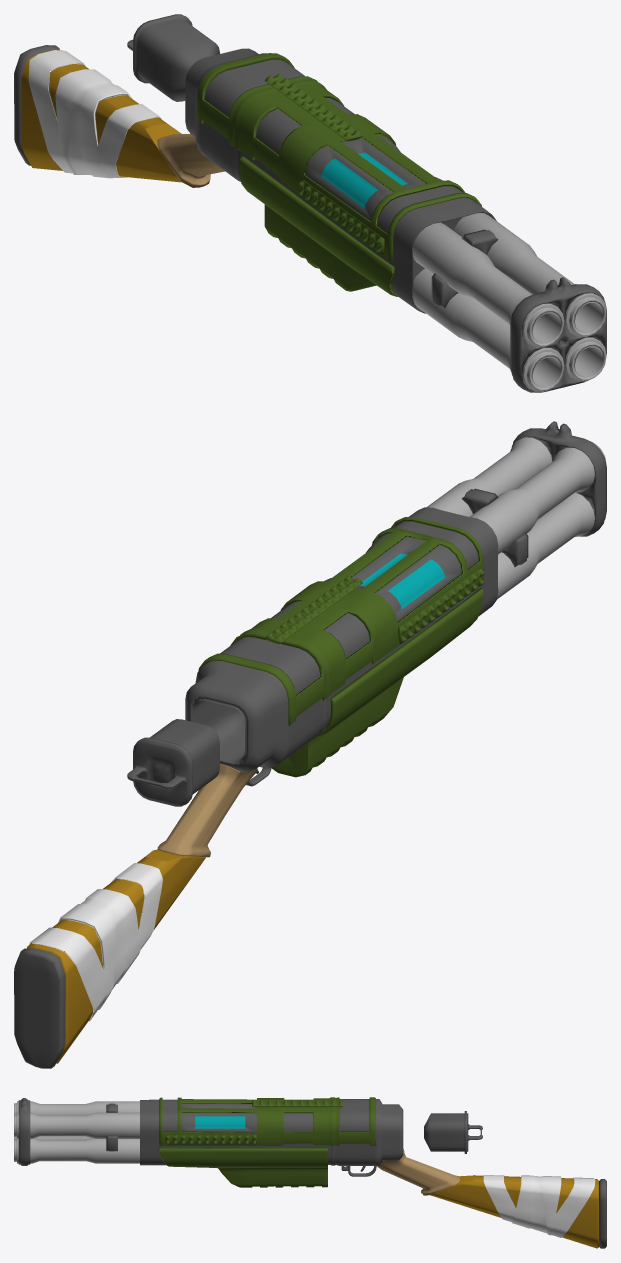
3 views of the same model, one above another, from view 1: azimuth 30°, elevation 25°; view 2: azimuth 150°, elevation 25°; view 3: azimuth 270°, elevation 25° (orthographic). The views are drawn at different scales.
Parts seen in each view (by area): view 1: stvol_low, base_low, nakladka_low, obvazka_low, rukojat_low, pliklad_low, batareya_low, nastvol_low, ruchka_low, pikotini3_low, pikotini1_low, uplotnitel_low (+1 smaller); view 2: base_low, nakladka_low, stvol_low, rukojat_low, obvazka_low, batareya_low, konec_priklada_low, pliklad_low, ruchka_low, nastvol_low, pikotini3_low, pikotini1_low (+1 smaller); view 3: base_low, stvol_low, rukojat_low, nakladka_low, obvazka_low, pliklad_low, batareya_low, ruchka_low, pikotini2_low, nastvol_low, pikotini1_low, konec_priklada_low (+1 smaller).
Boxes of the visible parts, left/top/right/bottom form: stvol_low: left=413, top=213, right=606, bottom=391; base_low: left=185, top=48, right=496, bottom=313; nakladka_low: left=197, top=53, right=481, bottom=262; obvazka_low: left=28, top=50, right=161, bottom=178; rukojat_low: left=239, top=156, right=397, bottom=296; pliklad_low: left=21, top=50, right=182, bottom=182; batareya_low: left=127, top=14, right=219, bottom=101; nastvol_low: left=510, top=277, right=606, bottom=392; ruchka_low: left=157, top=133, right=224, bottom=187; pikotini3_low: left=298, top=178, right=384, bottom=255; pikotini1_low: left=265, top=73, right=362, bottom=141; uplotnitel_low: left=431, top=229, right=498, bottom=307; base_low: left=185, top=507, right=498, bottom=772; nakladka_low: left=198, top=517, right=483, bottom=725; stvol_low: left=427, top=437, right=606, bottom=599; rukojat_low: left=271, top=587, right=483, bottom=777; obvazka_low: left=29, top=863, right=162, bottom=1021; batareya_low: left=127, top=719, right=219, bottom=806; konec_priklada_low: left=14, top=948, right=65, bottom=1068; pliklad_low: left=26, top=849, right=205, bottom=1063; ruchka_low: left=157, top=763, right=257, bottom=857; nastvol_low: left=512, top=421, right=606, bottom=536; pikotini3_low: left=398, top=567, right=484, bottom=644; pikotini1_low: left=265, top=576, right=362, bottom=644; base_low: left=140, top=1099, right=403, bottom=1165; stvol_low: left=14, top=1101, right=139, bottom=1163; rukojat_low: left=158, top=1147, right=327, bottom=1187; nakladka_low: left=159, top=1097, right=376, bottom=1145; obvazka_low: left=483, top=1175, right=595, bottom=1237; pliklad_low: left=430, top=1175, right=598, bottom=1248; batareya_low: left=424, top=1111, right=482, bottom=1153; ruchka_low: left=377, top=1149, right=459, bottom=1195; pikotini2_low: left=165, top=1135, right=256, bottom=1144; nastvol_low: left=18, top=1098, right=30, bottom=1165; pikotini1_low: left=252, top=1100, right=342, bottom=1107; konec_priklada_low: left=599, top=1179, right=606, bottom=1248.
Size of the model in its own units: 20.24 by 47.8 by 175.
